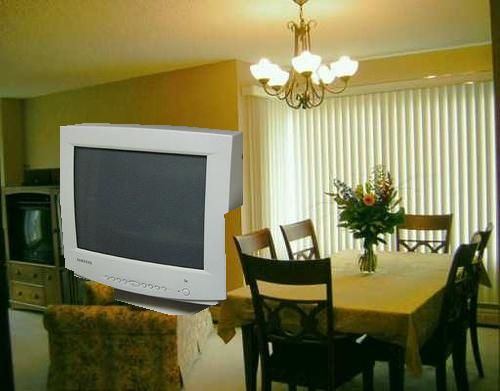tampered: (61, 124, 243, 315)
